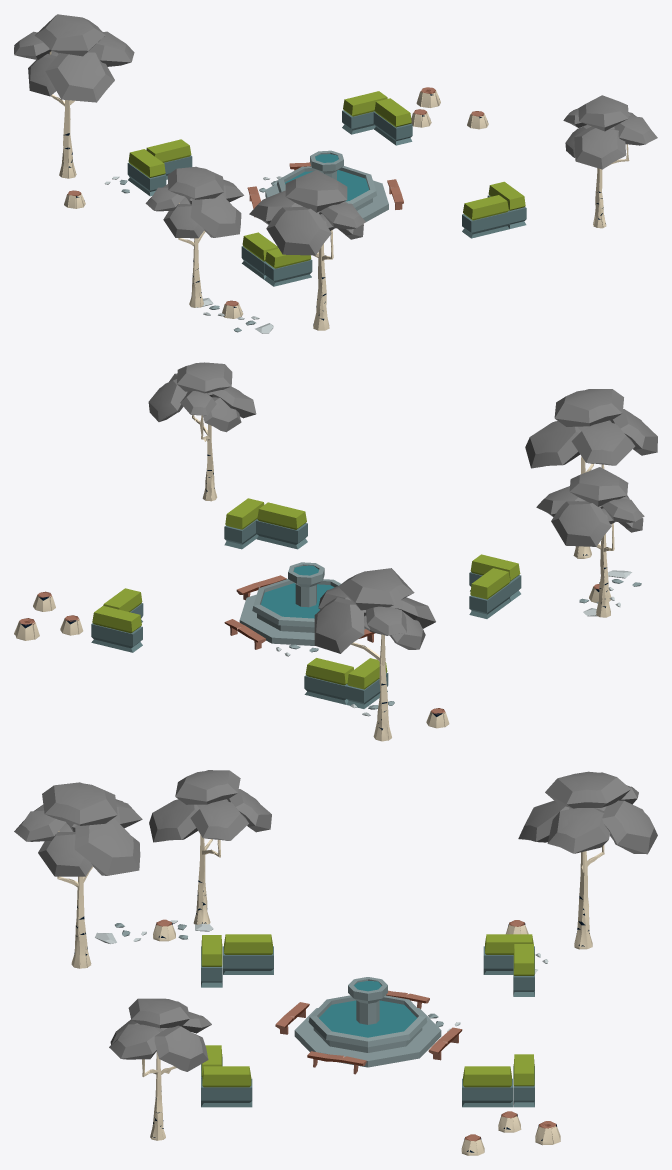
The model's file is SM_Fountain_LOD_G.fbx.
3 renders of one model, top to bottom at view 1: azimuth 30°, elevation 25°; view 2: azimuth 150°, elevation 25°; view 3: azimuth 270°, elevation 25°, orthographic. The views are drawn at different scales.
Parts seen in each view (by area): view 1: SM_Fountain_LOD0A, SM_Fountain_LOD1A; view 2: SM_Fountain_LOD0A, SM_Fountain_LOD1A; view 3: SM_Fountain_LOD0A, SM_Fountain_LOD1A.
Part boxes in pixels (<box>): SM_Fountain_LOD0A: <box>14,14,657,333</box>; SM_Fountain_LOD1A: <box>14,14,657,333</box>; SM_Fountain_LOD0A: <box>14,362,657,741</box>; SM_Fountain_LOD1A: <box>14,362,657,741</box>; SM_Fountain_LOD0A: <box>16,770,657,1155</box>; SM_Fountain_LOD1A: <box>14,770,650,1155</box>.
Size of the model in its own units: 148279 by 46197 by 154150.
